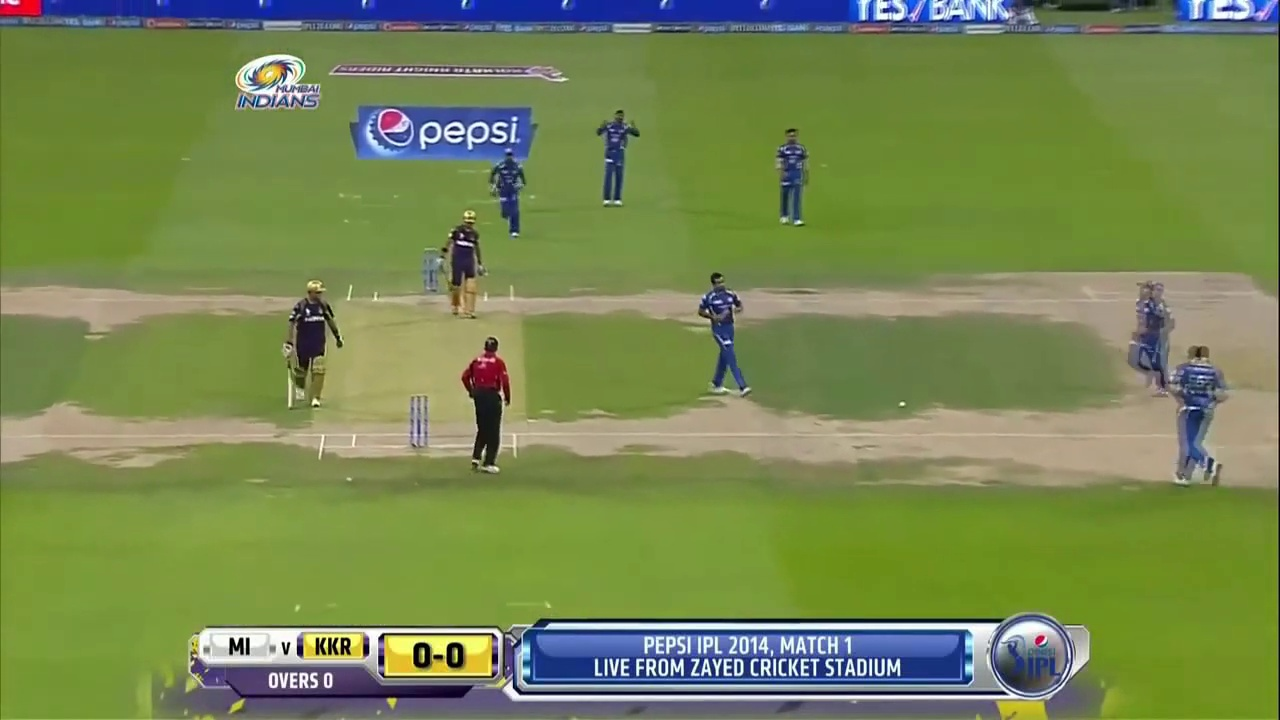bat: (287, 362, 293, 410)
stumps: (410, 393, 428, 449)
